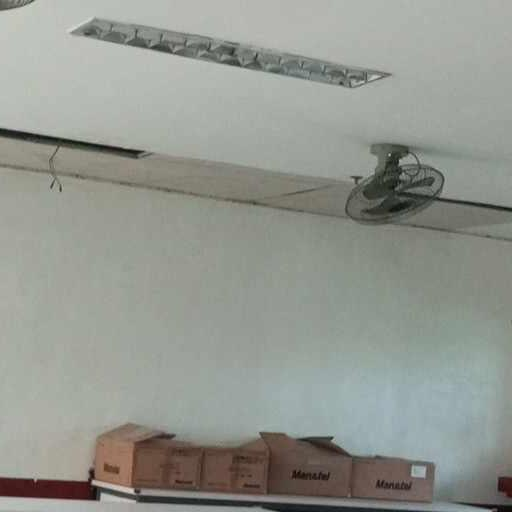Fan: (331, 136, 446, 239)
